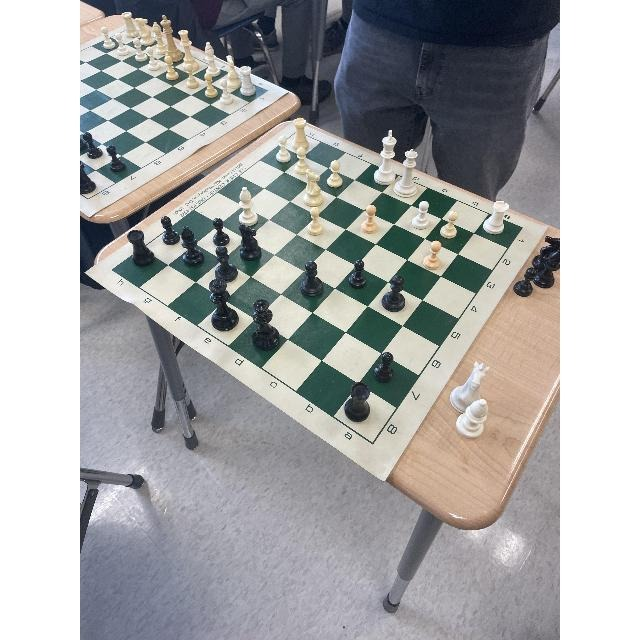black-pawn: (381, 269, 409, 314), (161, 213, 182, 249), (104, 143, 126, 174), (83, 135, 101, 163)
black-rook: (126, 228, 156, 266)
white-pawn: (302, 192, 332, 249), (352, 203, 392, 245), (442, 201, 464, 240), (329, 154, 347, 190)
